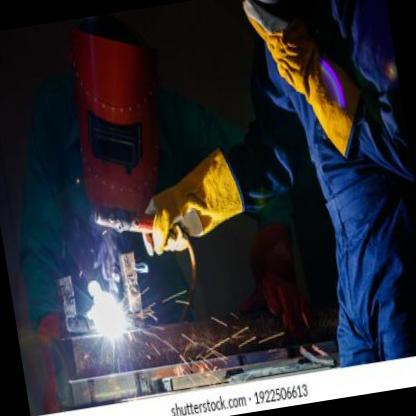Gloves: (243, 0, 371, 179), (130, 146, 252, 257)
